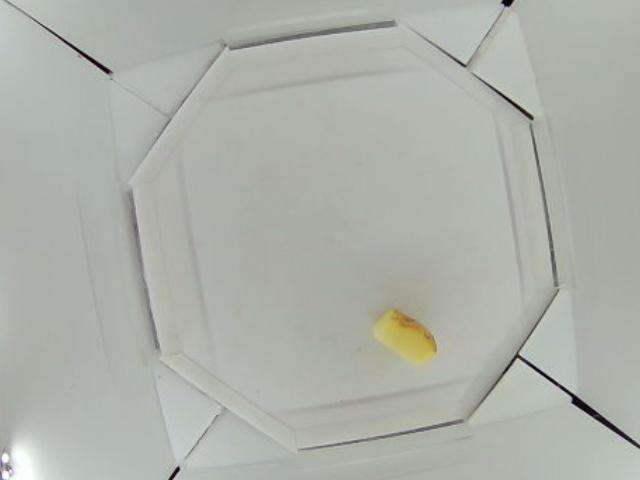Potato: (374, 310, 438, 364)
